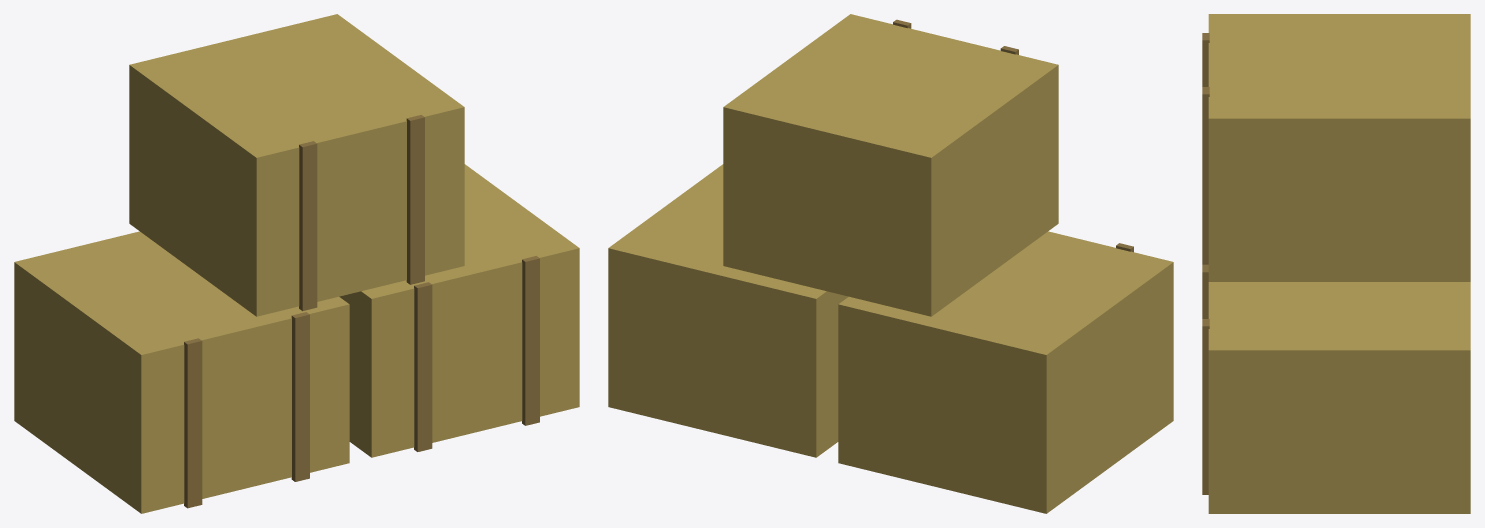
File: map-exclusive-v3__farm_03.glb
3 views of the same model, side by side, from view 1: azimuth 30°, elevation 25°; view 2: azimuth 150°, elevation 25°; view 3: azimuth 270°, elevation 25° (orthographic). The views are drawn at different scales.
Parts seen in each view (by area): view 1: farm_03; view 2: farm_03; view 3: farm_03.
Boxes of the visible parts, bbox=[...] form: farm_03: bbox=[14, 14, 579, 513]; farm_03: bbox=[608, 14, 1173, 513]; farm_03: bbox=[1202, 14, 1470, 513].
Size of the model in its own units: 1.79 by 1.3 by 0.9225.
